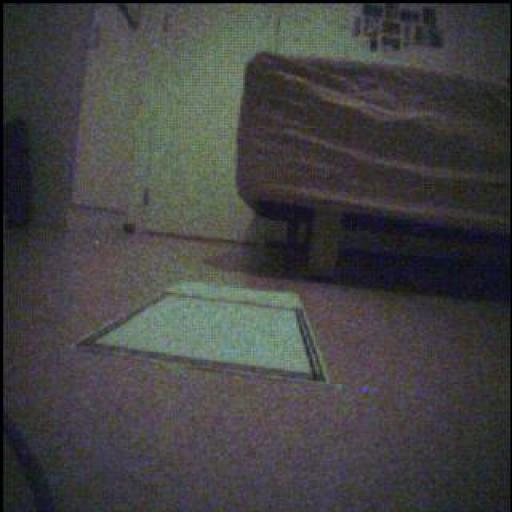pad: (79, 283, 329, 384)
